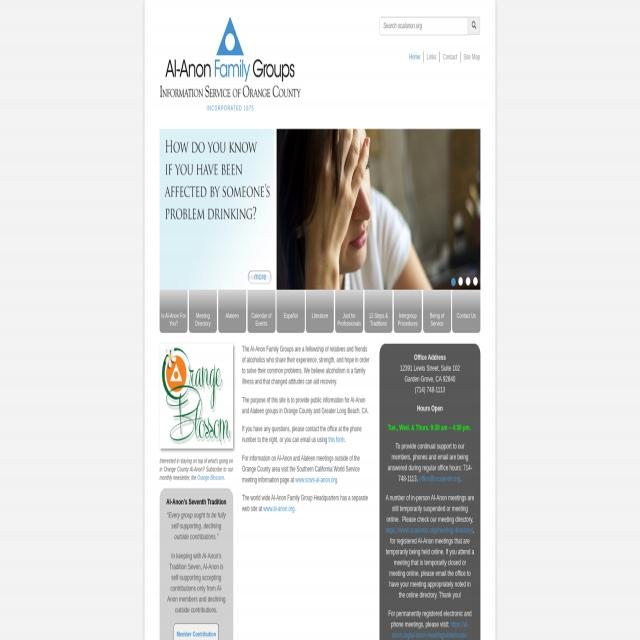button: (160, 17, 301, 97), (160, 343, 232, 448), (160, 290, 188, 333), (189, 290, 217, 333), (218, 290, 246, 333), (247, 290, 275, 333), (276, 290, 304, 333), (306, 290, 334, 333), (335, 290, 363, 333), (364, 290, 392, 333), (394, 290, 422, 333), (423, 290, 451, 333), (452, 290, 480, 333), (173, 624, 219, 640), (248, 270, 272, 282), (468, 17, 480, 35)
field: (379, 17, 468, 35)
